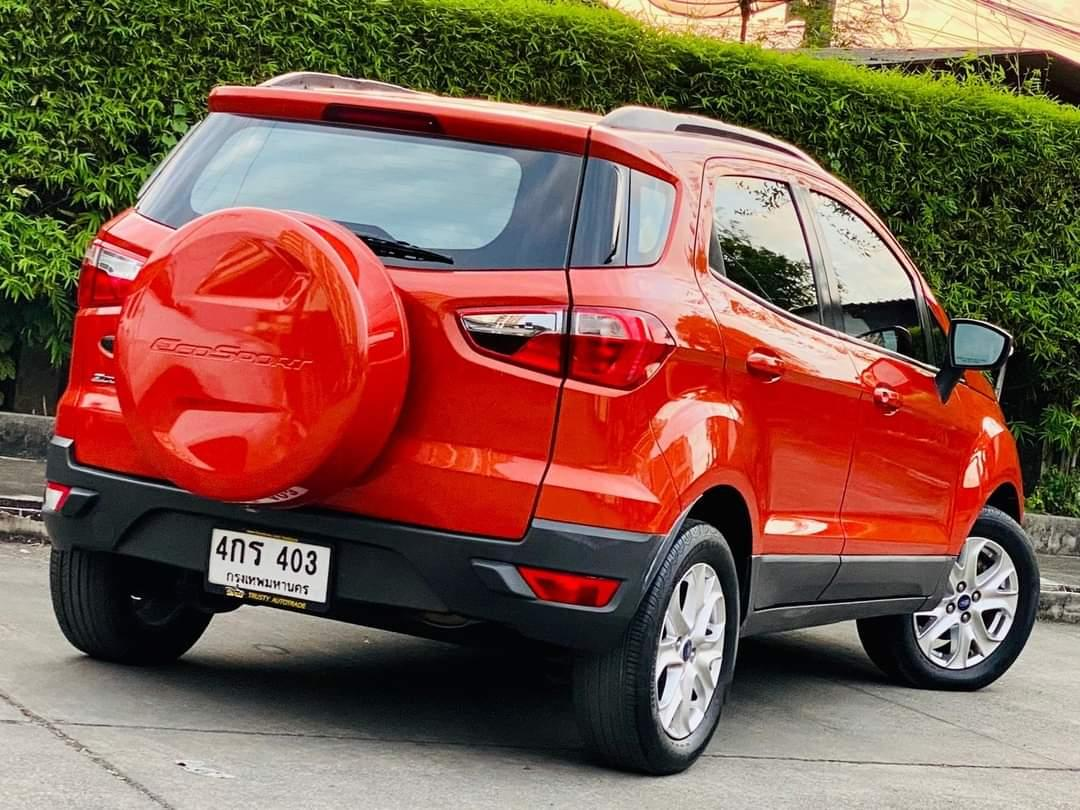license-plate: (202, 518, 339, 614)
